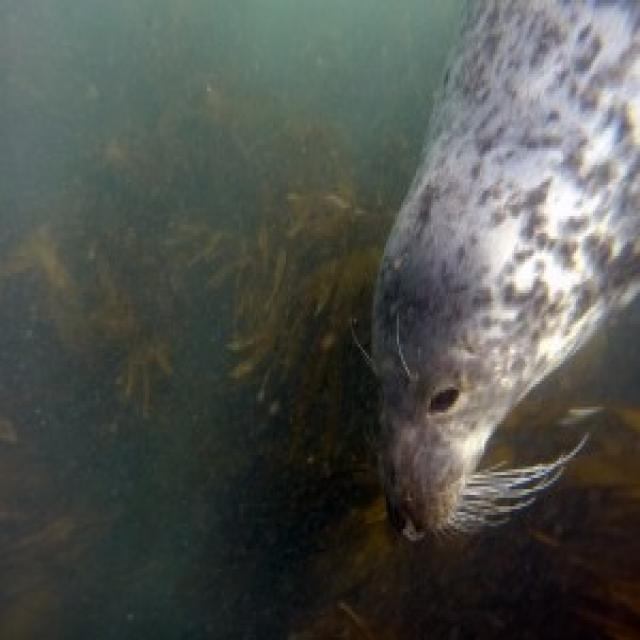Seal: (362, 0, 640, 554)
